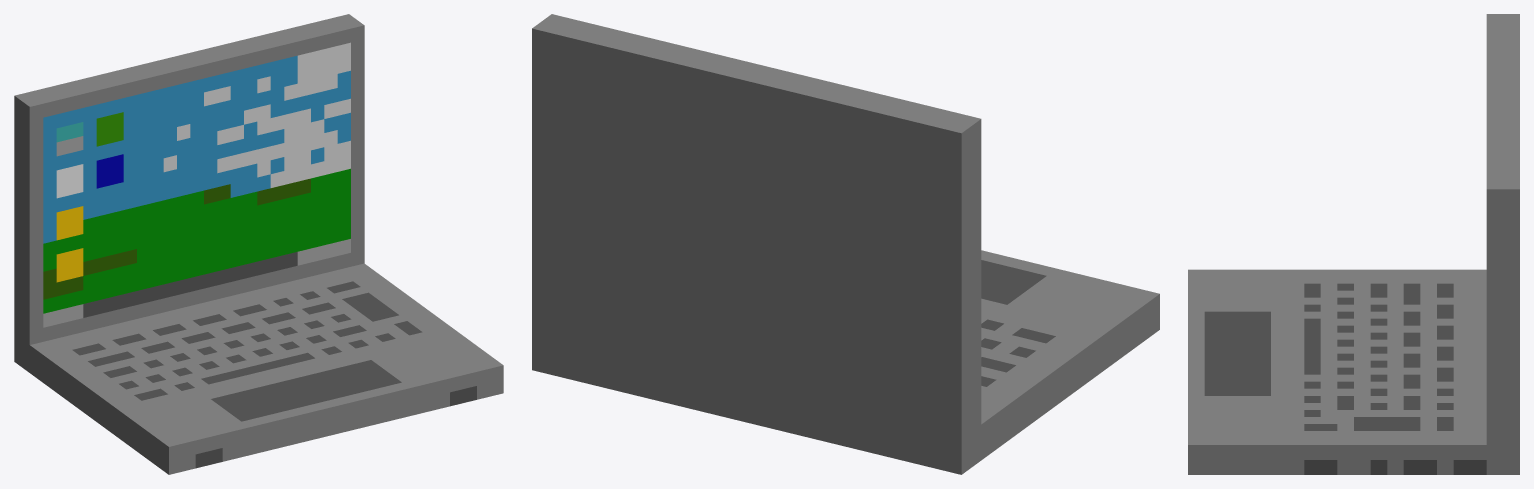
Rendered from Voxel Universe Objects-66.obj.
3 views of the same model, side by side, from view 1: azimuth 30°, elevation 25°; view 2: azimuth 150°, elevation 25°; view 3: azimuth 270°, elevation 25° (orthographic). The views are drawn at different scales.
Size of the model in its own units: 2.5 by 1.9 by 2.
1 material, 1 textured.
